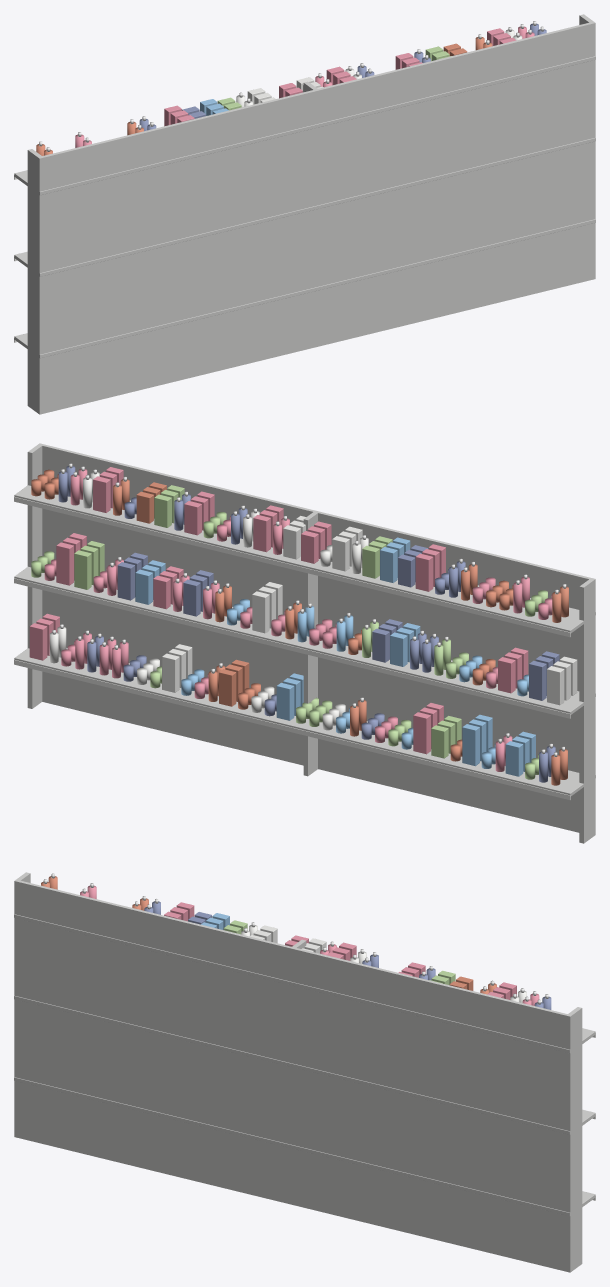
Rendered from local.estantes.fbx.
3 views of the same model, one above another, from view 1: azimuth 30°, elevation 25°; view 2: azimuth 150°, elevation 25°; view 3: azimuth 330°, elevation 25° (orthographic).
Parts seen in each view (by area): view 1: Fondo de la gondola, Paral.002, Repisa, Repisa.001, Repisa.002; view 2: Fondo de la gondola, Repisa, Repisa.002, Repisa.001, Paral.002, Portaprecios.001, Portaprecios.002, Portaprecios, Paral, Paral.001, Caja.024, Caja.042 (+30 smaller); view 3: Fondo de la gondola, Paral, Repisa.001, Repisa, Repisa.002.
Part boxes in pixels (x1,y1,x2,y2): Fondo de la gondola: [37, 21, 595, 414]; Paral.002: [27, 149, 42, 413]; Repisa: [14, 219, 595, 358]; Repisa.001: [14, 137, 595, 276]; Repisa.002: [14, 56, 595, 195]; Fondo de la gondola: [38, 443, 595, 835]; Repisa: [14, 648, 595, 796]; Repisa.002: [14, 485, 595, 633]; Repisa.001: [14, 566, 595, 714]; Paral.002: [579, 578, 595, 843]; Portaprecios.001: [14, 578, 570, 718]; Portaprecios.002: [14, 497, 570, 637]; Portaprecios: [14, 659, 570, 799]; Paral: [27, 444, 42, 708]; Paral.001: [303, 511, 318, 776]; Caja.024: [56, 542, 73, 585]; Caja.042: [252, 591, 269, 633]; Fondo de la gondola: [14, 880, 572, 1272]; Paral: [567, 1007, 582, 1270]; Repisa.001: [14, 995, 595, 1134]; Repisa: [14, 1077, 595, 1216]; Repisa.002: [14, 914, 595, 1053].
Bounding box in the file's own units: 5 × 2.2 × 0.405.
